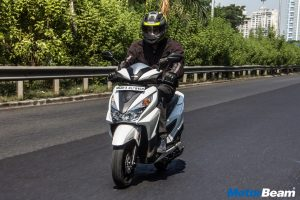helmet: (139, 10, 167, 41)
